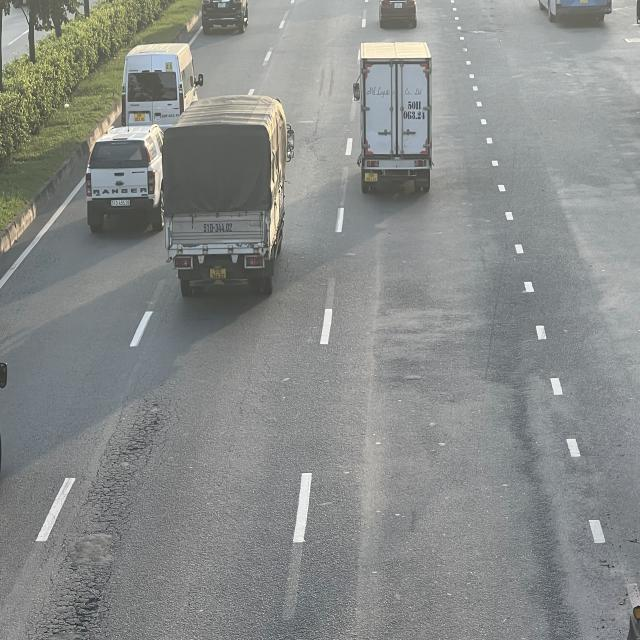car: (87, 124, 166, 232)
truck: (160, 92, 291, 297), (352, 40, 432, 192)
van: (120, 41, 202, 128)
